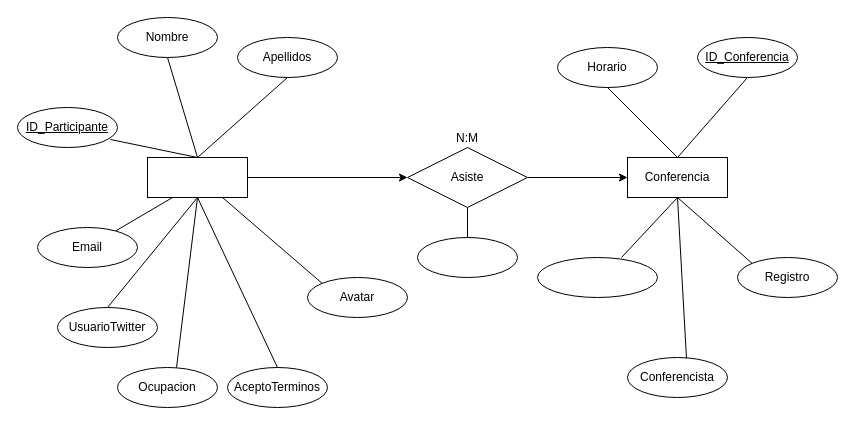
The diagram is 855 pixels wide and 425 high, and some of its shapes have lost their labels. Here are the shapes that lost their labels. From the top down, the centre of each, then its label:
the point at 197,177: Participante
the point at 467,257: ID_Asistencia
the point at 597,277: TituloConferencia
